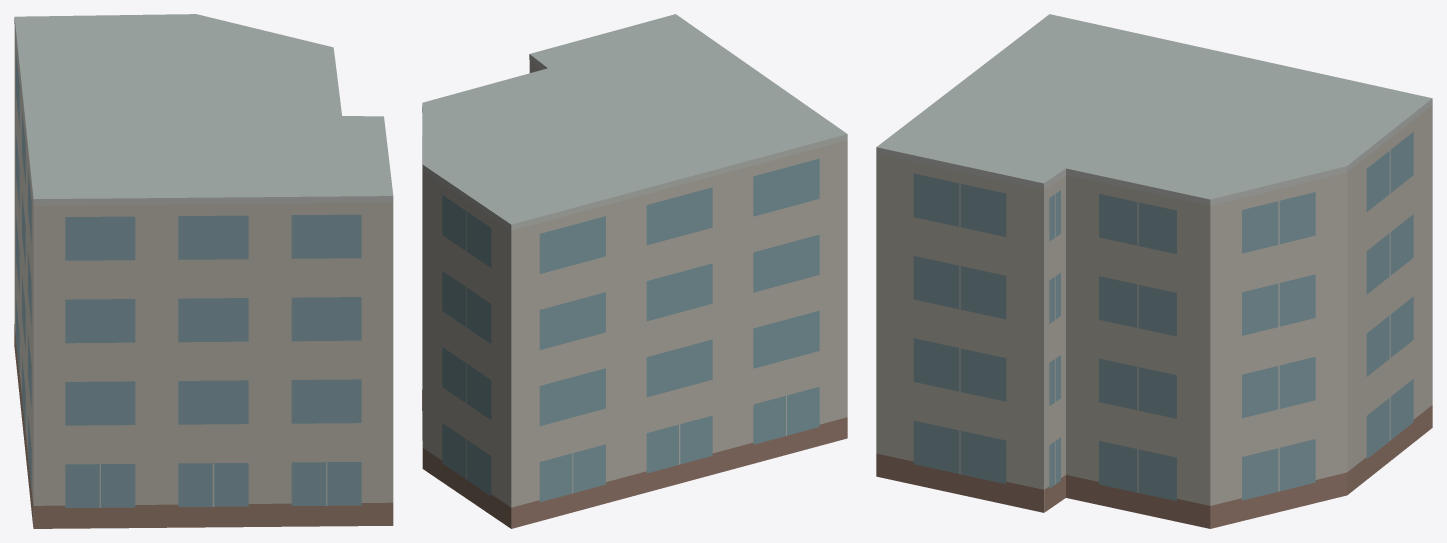
The model's file is survey-upis-32933146.glb.
3 views of the same model, side by side, from view 1: azimuth 30°, elevation 25°; view 2: azimuth 150°, elevation 25°; view 3: azimuth 270°, elevation 25° (orthographic). The views are drawn at different scales.
Parts seen in each view (by area): view 1: survey-upis-32933146.tmp; view 2: survey-upis-32933146.tmp; view 3: survey-upis-32933146.tmp.
Part boxes in pixels (x1,y1,x2,y2): survey-upis-32933146.tmp: [14, 14, 393, 528]; survey-upis-32933146.tmp: [422, 14, 847, 528]; survey-upis-32933146.tmp: [876, 14, 1432, 528].
Size of the model in its own units: 14.99 by 12.4 by 18.99.
